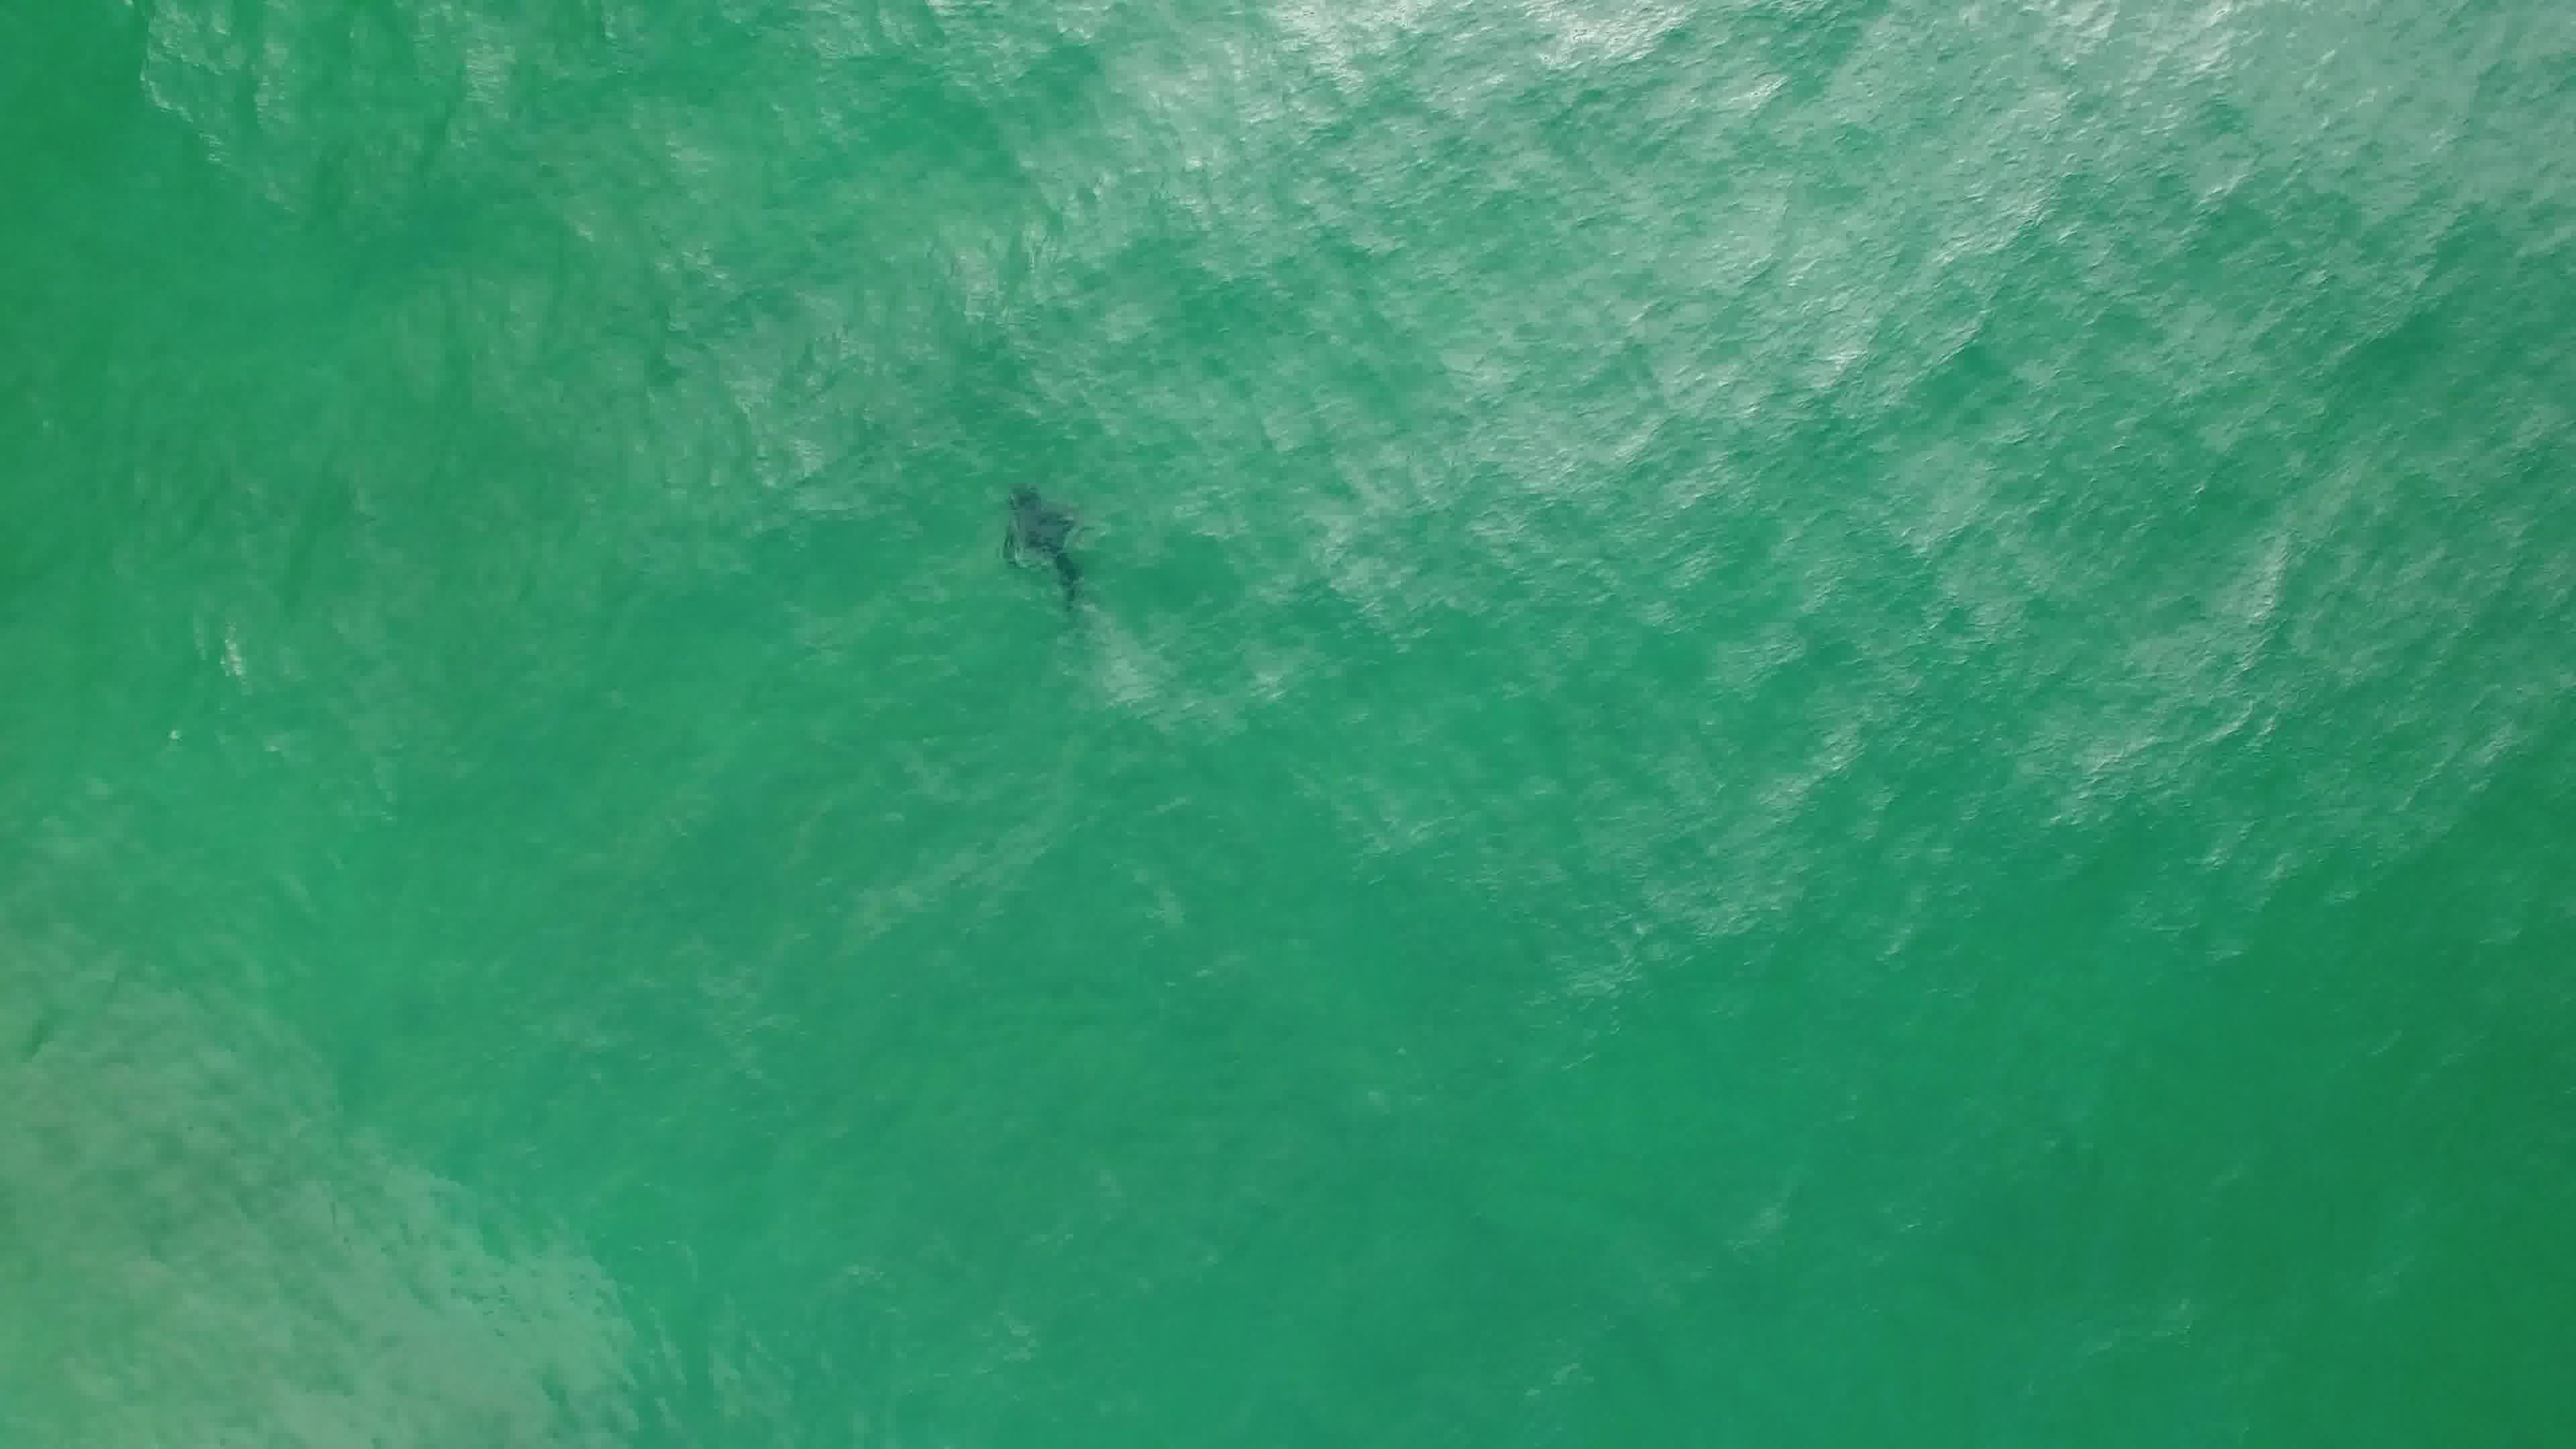shark: (991, 472, 1102, 632)
